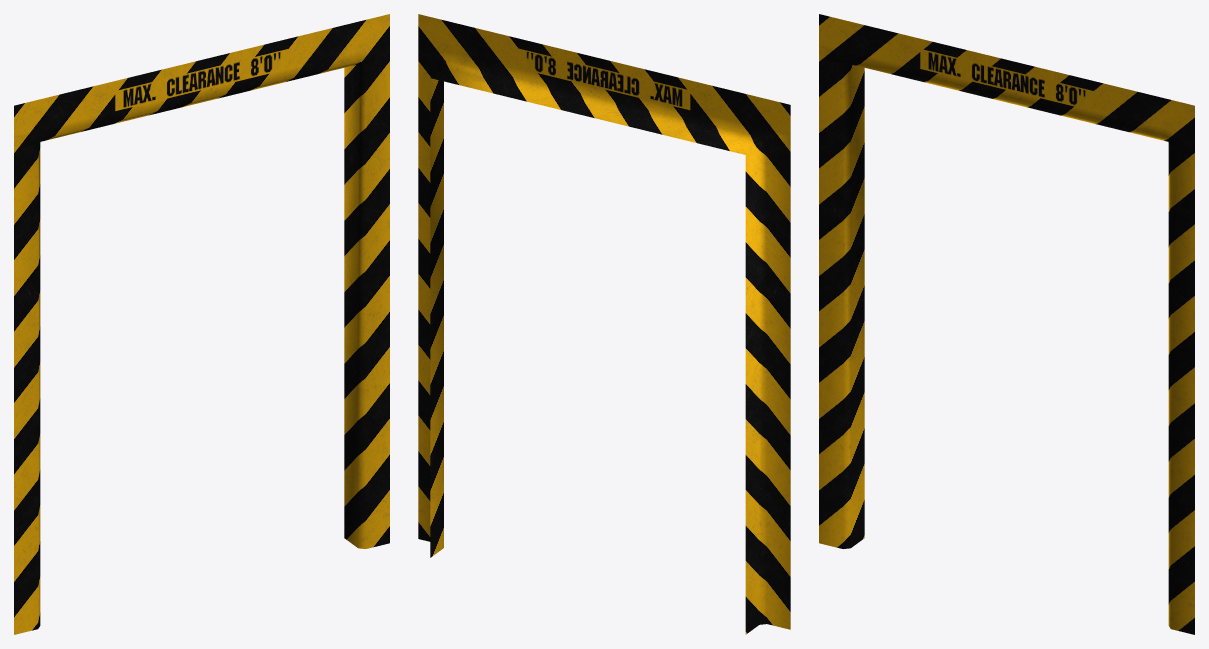
File: signage_longhall_blastdoor_frame_8.fbx
3 views of the same model, side by side, from view 1: azimuth 30°, elevation 25°; view 2: azimuth 150°, elevation 25°; view 3: azimuth 330°, elevation 25° (orthographic).
Visible parts, largest first — view 1: signage_longhall_blastdoor_frame_8; view 2: signage_longhall_blastdoor_frame_8; view 3: signage_longhall_blastdoor_frame_8.
Boxes of the visible parts, x1,y1,x2,y2 form: signage_longhall_blastdoor_frame_8: (14,14,389,634); signage_longhall_blastdoor_frame_8: (418,14,790,634); signage_longhall_blastdoor_frame_8: (819,14,1194,634).
Bounding box in the file's own units: 0.1524 × 1.98 × 2.67.
